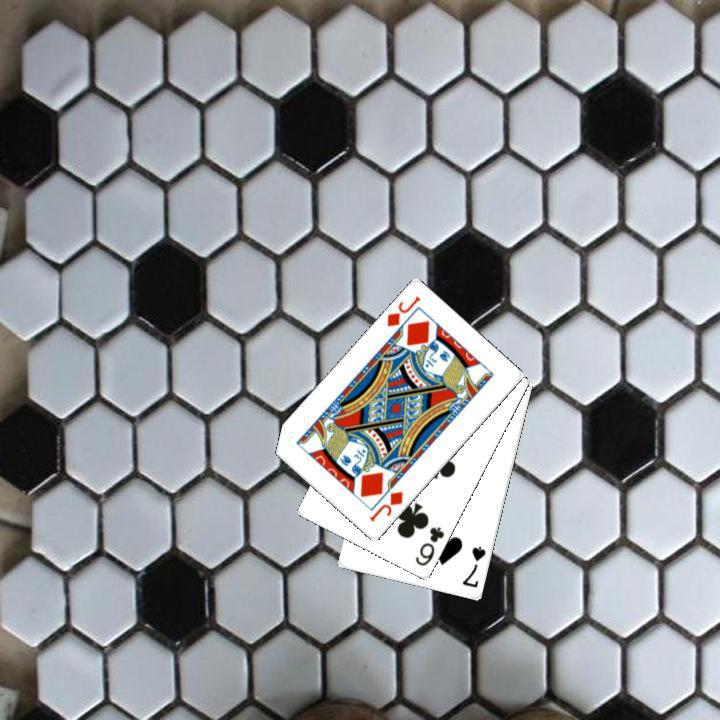6: (411, 523, 446, 568)
7: (458, 542, 488, 590)
J: (382, 292, 423, 329), (365, 487, 405, 524)
